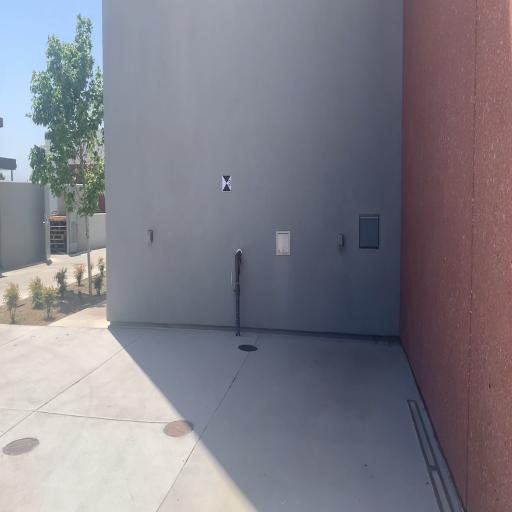target3: (222, 174, 232, 192)
